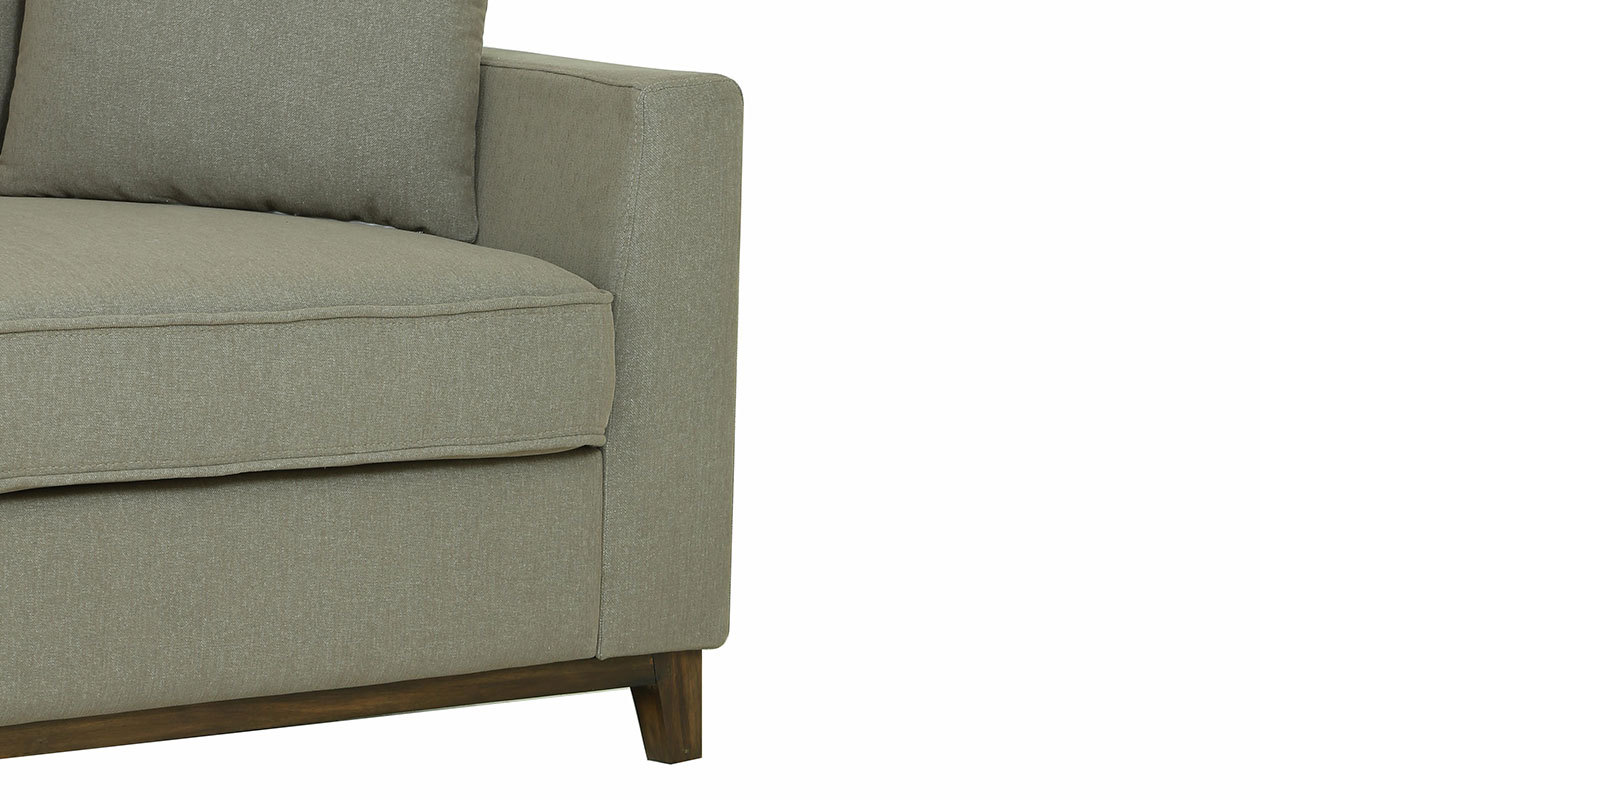Diego Three Seater Sofa in Sandy Colour by CasaCraft: (5, 1, 752, 776)
